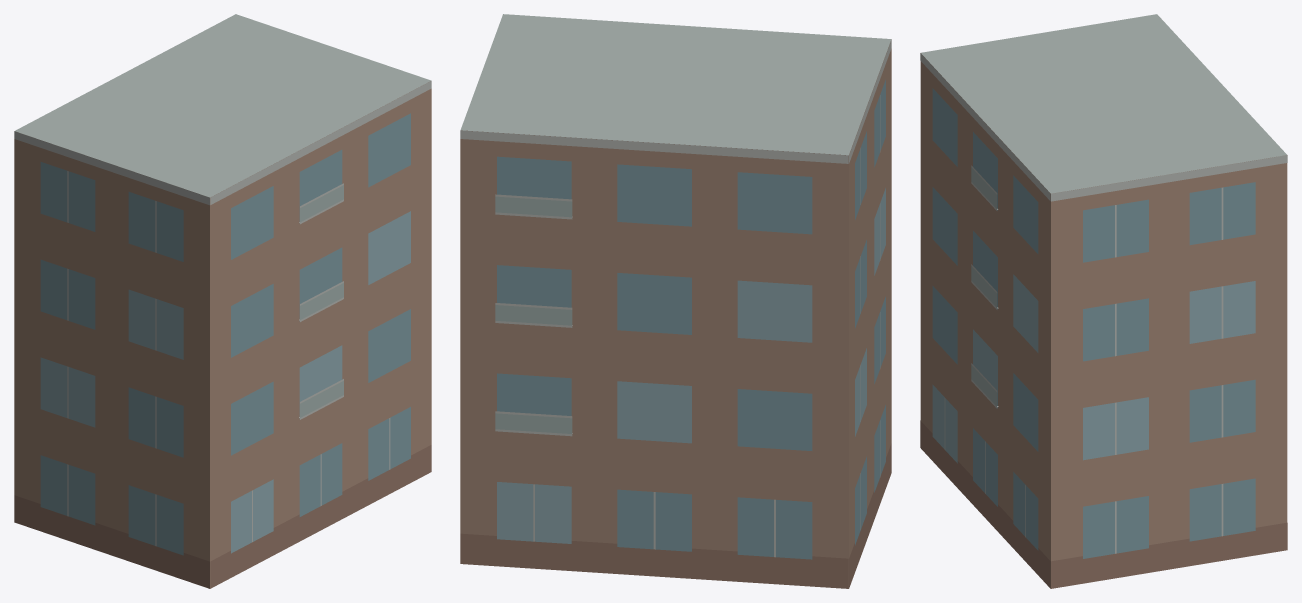
The model's file is survey-upis-32971872.glb.
3 views of the same model, side by side, from view 1: azimuth 30°, elevation 25°; view 2: azimuth 150°, elevation 25°; view 3: azimuth 270°, elevation 25° (orthographic). The views are drawn at different scales.
Visible parts, largest first — view 1: survey-upis-32971872.tmp; view 2: survey-upis-32971872.tmp; view 3: survey-upis-32971872.tmp.
Part boxes in pixels (<box>): survey-upis-32971872.tmp: <box>14,14,431,588</box>; survey-upis-32971872.tmp: <box>460,14,891,588</box>; survey-upis-32971872.tmp: <box>920,14,1287,588</box>.
Size of the model in its own units: 11.91 by 12.2 by 10.28.
